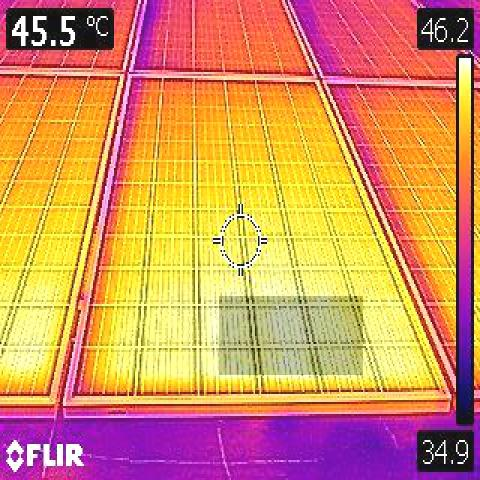fault: (219, 296, 363, 375)
